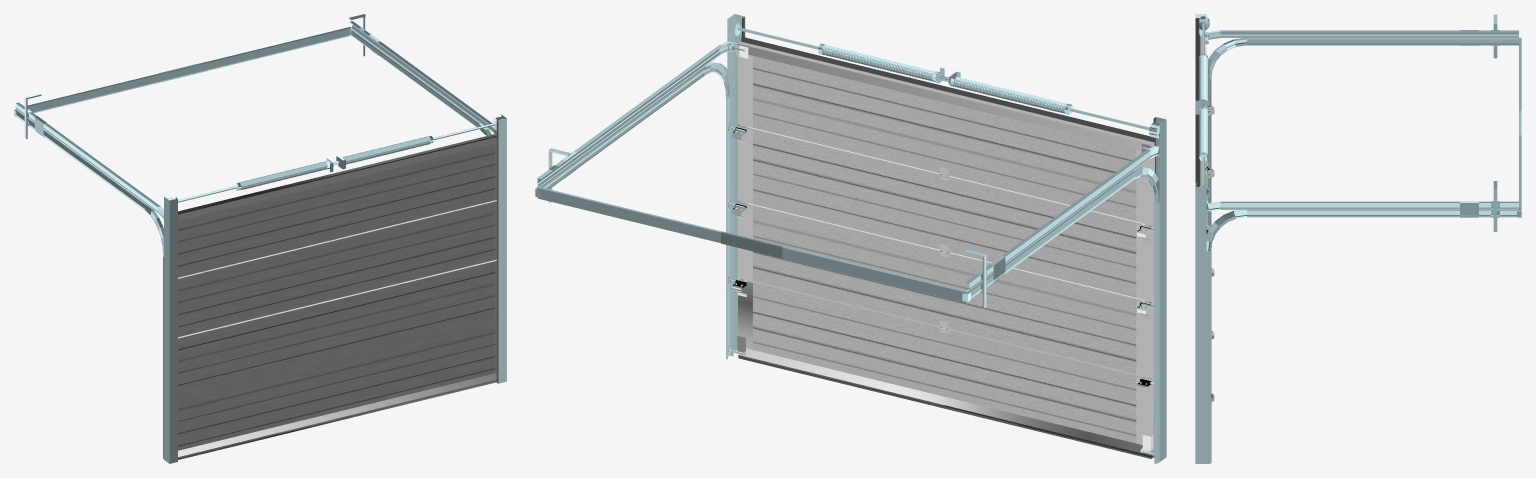
The picture shows the model from 3 angles, left to right: view 1: azimuth 30°, elevation 25°; view 2: azimuth 150°, elevation 25°; view 3: azimuth 270°, elevation 25°; orthographic projection. The views are drawn at different scales.
Visible parts, largest first — view 1: painel1, painel4, painel3, painel2, baliza, d_mola, e_mola, barra_tracao; view 2: painel1, painel4, painel2, painel3, baliza, e_mola, d_mola, barra_tracao; view 3: baliza, e_mola, d_mola, barra_tracao.
Boxes of the visible parts, bbox=[...] form: painel1: bbox=[178, 133, 496, 277]; painel4: bbox=[178, 319, 496, 459]; painel3: bbox=[178, 259, 496, 396]; painel2: bbox=[178, 200, 496, 337]; baliza: bbox=[14, 14, 506, 463]; d_mola: bbox=[239, 161, 327, 189]; e_mola: bbox=[342, 136, 430, 164]; barra_tracao: bbox=[167, 117, 502, 202]; painel1: bbox=[732, 37, 1154, 226]; painel4: bbox=[732, 277, 1154, 458]; painel2: bbox=[732, 124, 1154, 302]; painel3: bbox=[732, 201, 1154, 378]; baliza: bbox=[535, 14, 1166, 463]; e_mola: bbox=[822, 44, 935, 81]; d_mola: bbox=[954, 77, 1067, 113]; barra_tracao: bbox=[727, 19, 1159, 138]; baliza: bbox=[1195, 14, 1521, 463]; e_mola: bbox=[1199, 108, 1207, 154]; d_mola: bbox=[1199, 55, 1207, 100]; barra_tracao: bbox=[1199, 16, 1209, 197].
Size of the model in its own units: 299 by 222 by 237.
1 material, 1 textured.
